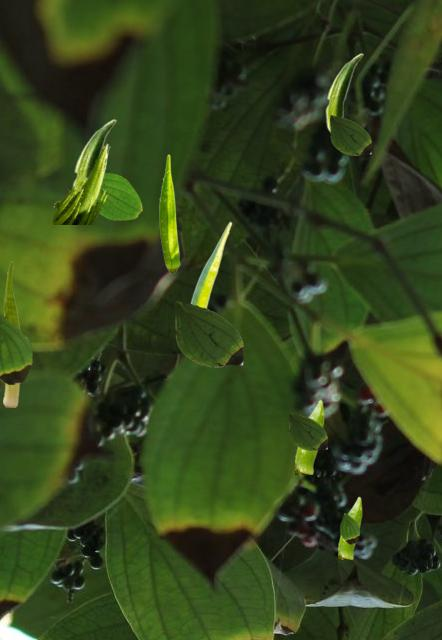okra: (50, 143, 109, 223), (190, 221, 231, 307), (72, 119, 115, 189), (325, 53, 362, 132), (3, 261, 20, 406), (159, 154, 179, 273), (295, 399, 323, 473), (338, 496, 361, 558)
